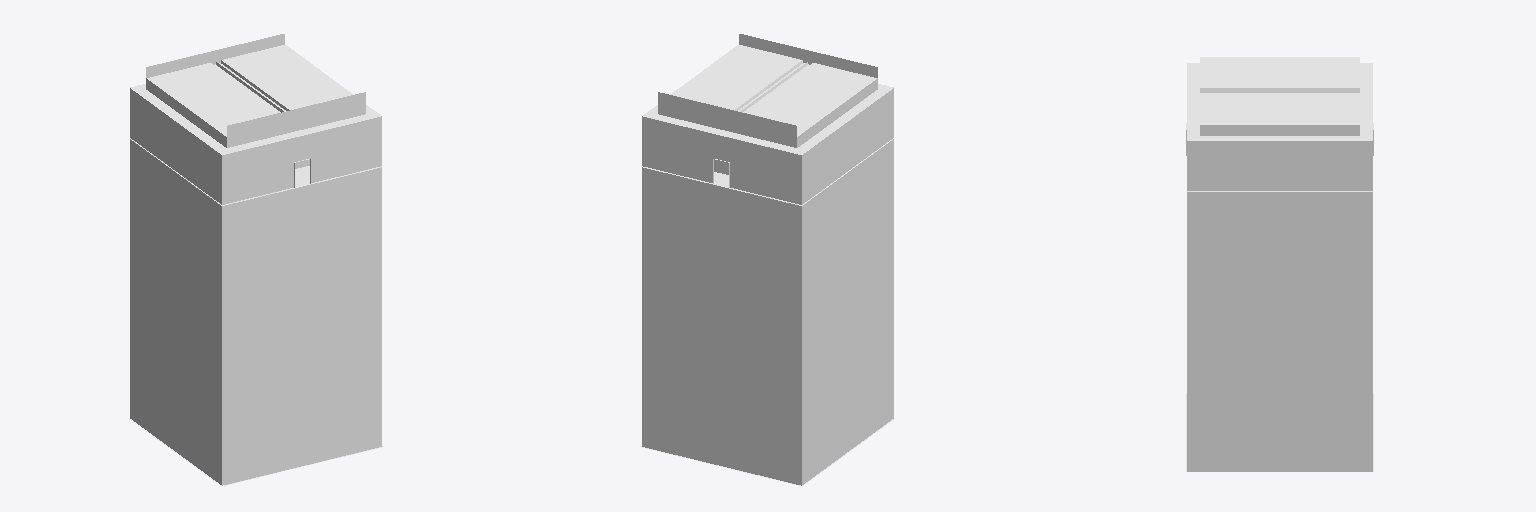
Rendered from Warhead-Silo.obj.
The picture shows the model from 3 angles: view 1: azimuth 30°, elevation 25°; view 2: azimuth 150°, elevation 25°; view 3: azimuth 270°, elevation 25°; orthographic projection.
Visible parts, largest first — view 1: Warhead-Silo; view 2: Warhead-Silo; view 3: Warhead-Silo.
Boxes of the visible parts, x1=… form: Warhead-Silo: x1=129, y1=34, x2=383, y2=485; Warhead-Silo: x1=640, y1=34, x2=894, y2=485; Warhead-Silo: x1=1186, y1=57, x2=1373, y2=471.
Bounding box in the file's own units: 15.2 × 31.55 × 15.2.